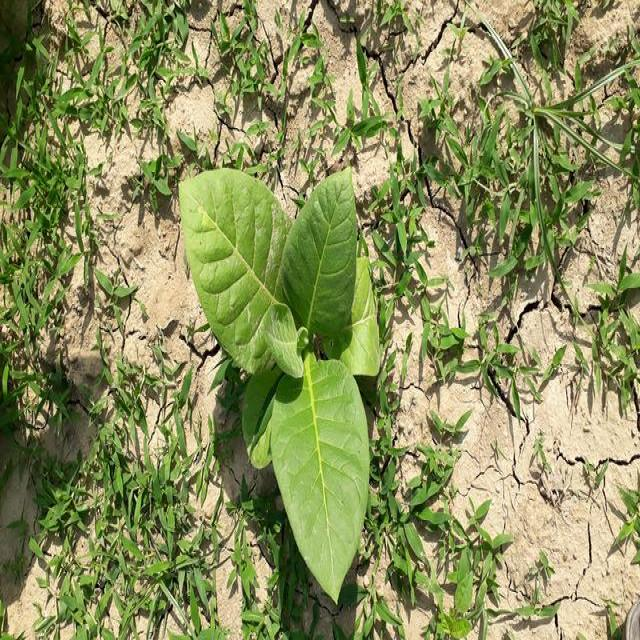crop: (170, 174, 380, 590)
